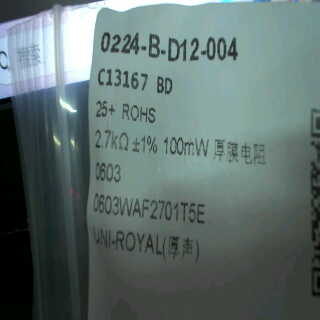2.7kR: (91, 126, 131, 155)
